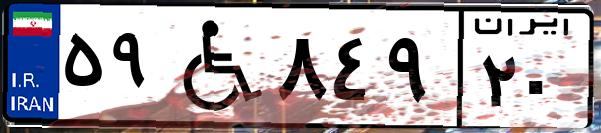0: (525, 38, 570, 115)
2: (475, 38, 525, 113)
4: (330, 28, 385, 110)
5: (57, 26, 110, 100)
8: (270, 28, 330, 110)
9: (385, 28, 445, 110), (110, 28, 158, 98)
ژ (معلولین و جانبازان): (158, 12, 270, 120)
